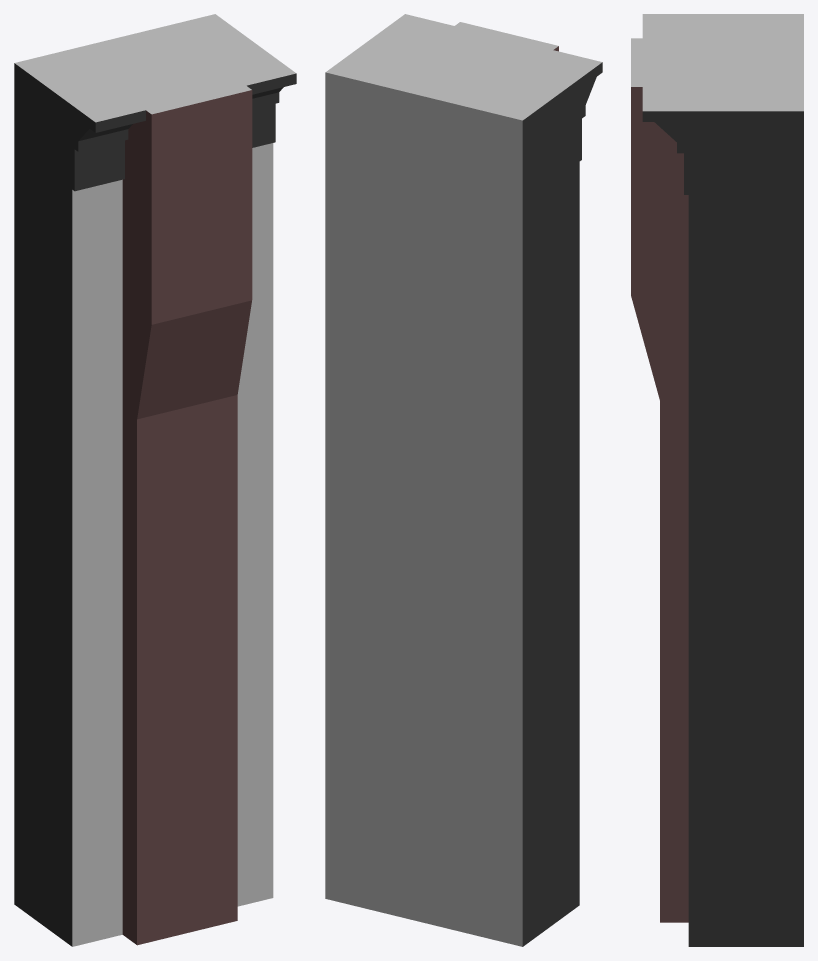
Rendered from FloorPillar1.fbx.
3 views of the same model, side by side, from view 1: azimuth 30°, elevation 25°; view 2: azimuth 150°, elevation 25°; view 3: azimuth 270°, elevation 25° (orthographic).
Visible parts, largest first — view 1: Tile2; view 2: Tile2; view 3: Tile2.
Boxes of the visible parts, bbox=[...] form: Tile2: bbox=[14, 14, 296, 946]; Tile2: bbox=[325, 14, 602, 946]; Tile2: bbox=[631, 14, 803, 946].
Size of the model in its own units: 1 by 4 by 0.75.
